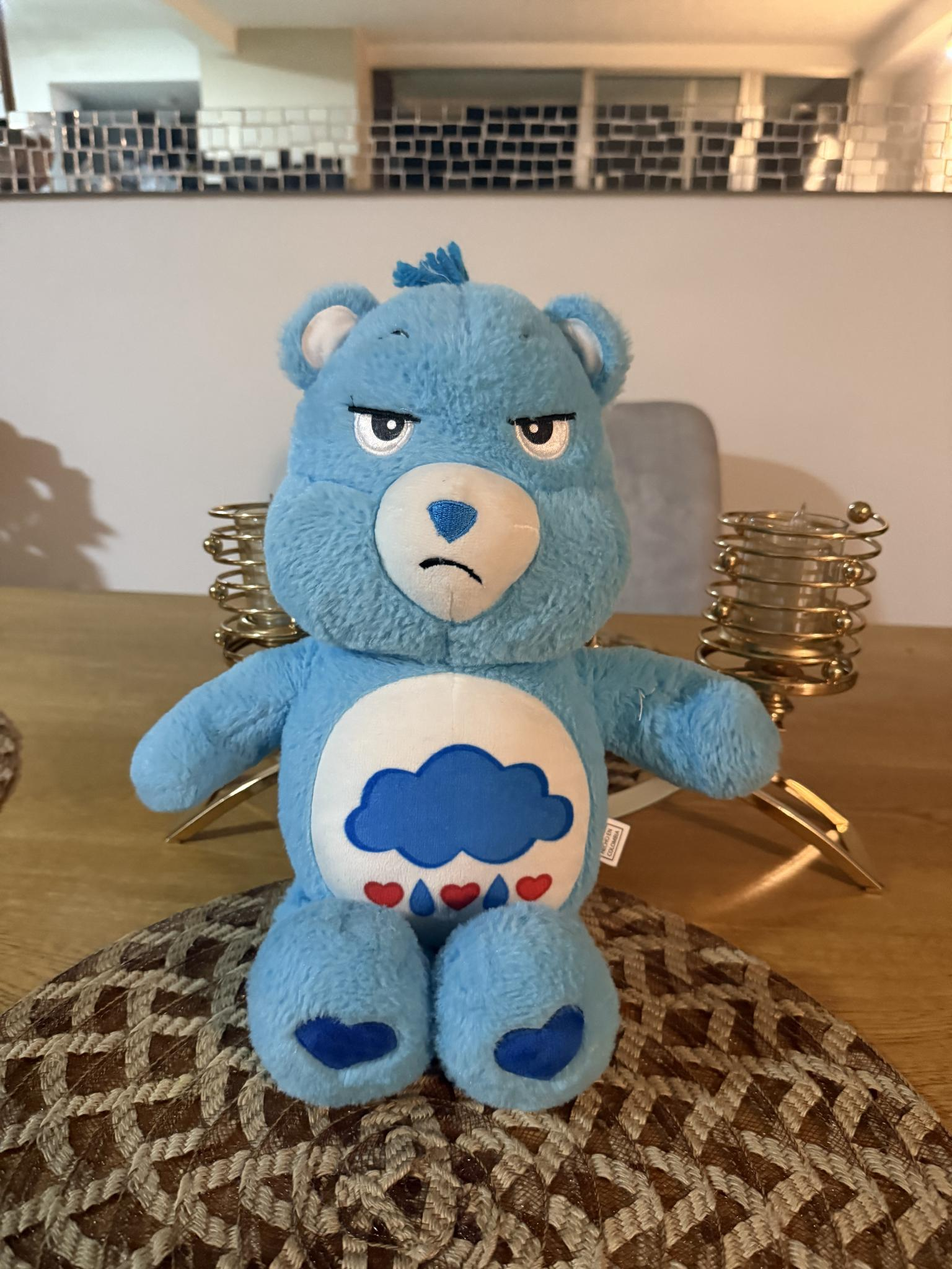peluche_Juan Jose: (129, 253, 784, 1115)
